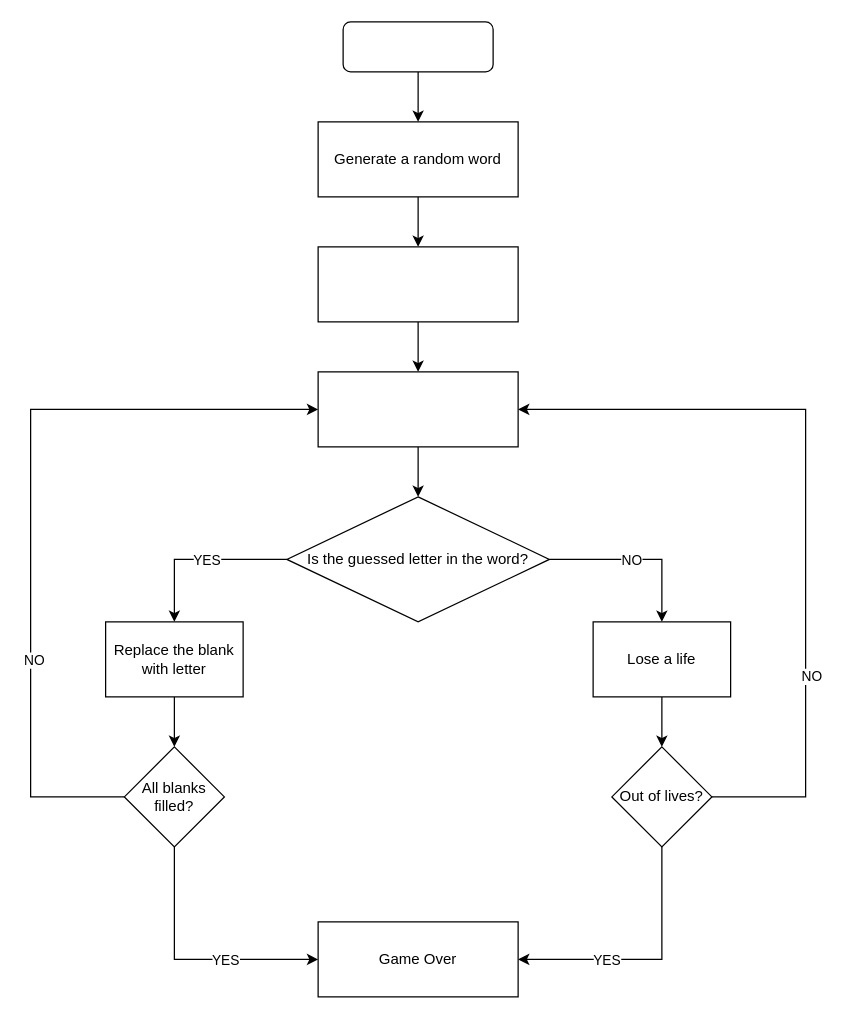
This 844x1019 diagram has some shape labels left out. Each missing label, with the box of its shape:
Ask the User to guess a letter: (317, 371, 518, 447)
Generate as many blanks as letters in word: (317, 246, 518, 322)
START: (342, 21, 493, 72)
